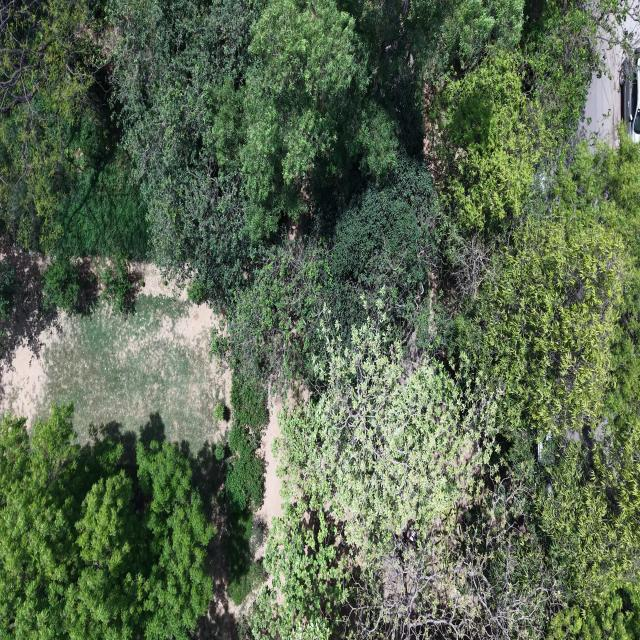DRY_AREA: (0, 249, 230, 457), (0, 250, 230, 453), (0, 265, 230, 450)
VEGETATION_TREE: (0, 0, 639, 639), (252, 141, 639, 638), (0, 0, 626, 305), (106, 0, 523, 304), (457, 147, 639, 614), (252, 323, 496, 638), (0, 405, 213, 639), (215, 159, 440, 380), (279, 323, 495, 549), (107, 0, 257, 303), (456, 212, 623, 455), (0, 0, 147, 257), (241, 0, 395, 236), (34, 296, 229, 454), (0, 0, 98, 248), (328, 157, 441, 339), (432, 50, 545, 231), (519, 0, 628, 170), (212, 244, 332, 384), (224, 373, 268, 604), (225, 374, 268, 511), (550, 587, 639, 639), (224, 510, 267, 605), (225, 422, 264, 509), (42, 254, 96, 313), (230, 374, 268, 438), (43, 255, 80, 313), (101, 256, 135, 312), (0, 260, 18, 322), (0, 261, 17, 321), (209, 328, 229, 360), (187, 277, 207, 304), (214, 402, 228, 421), (214, 442, 226, 461)
